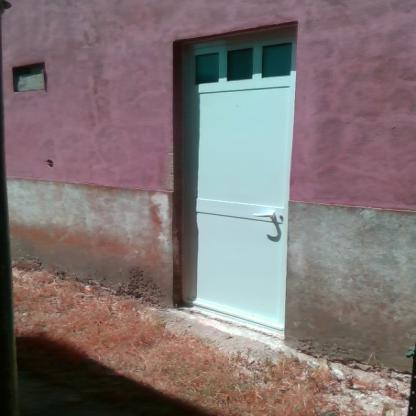door: (180, 47, 290, 330)
lever: (252, 212, 277, 221)
